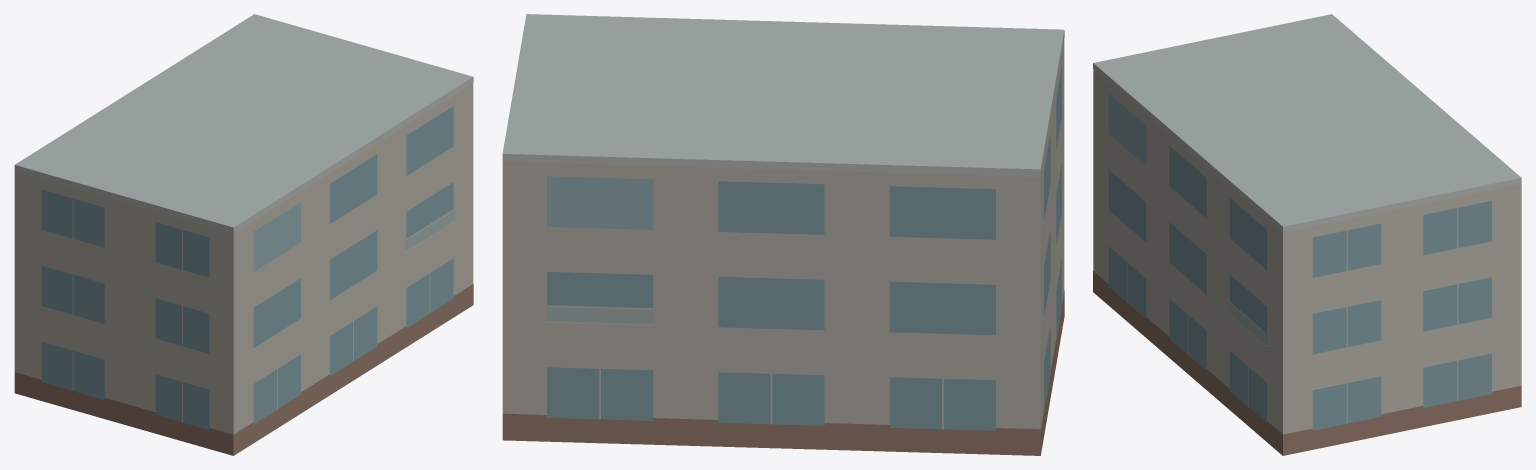
Rendered from survey-upis-32697997.glb.
The picture shows the model from 3 angles, left to right: view 1: azimuth 30°, elevation 25°; view 2: azimuth 150°, elevation 25°; view 3: azimuth 270°, elevation 25°; orthographic projection. The views are drawn at different scales.
Visible parts, largest first — view 1: survey-upis-32697997.tmp; view 2: survey-upis-32697997.tmp; view 3: survey-upis-32697997.tmp.
Part boxes in pixels (x1,y1,x2,y2): survey-upis-32697997.tmp: (14, 14, 473, 455); survey-upis-32697997.tmp: (502, 14, 1064, 455); survey-upis-32697997.tmp: (1093, 14, 1521, 455).
Bounding box in the file's own units: 18.22 × 9.15 × 15.51.
